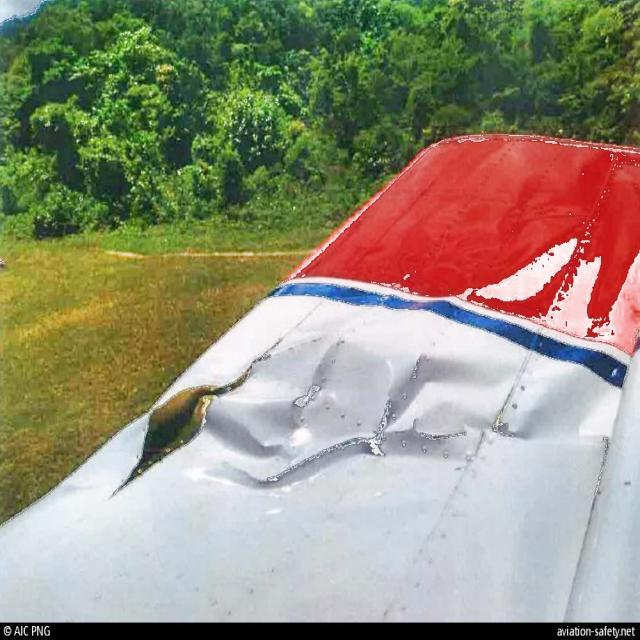crack: (266, 433, 378, 495), (402, 426, 471, 473), (412, 357, 430, 385)
